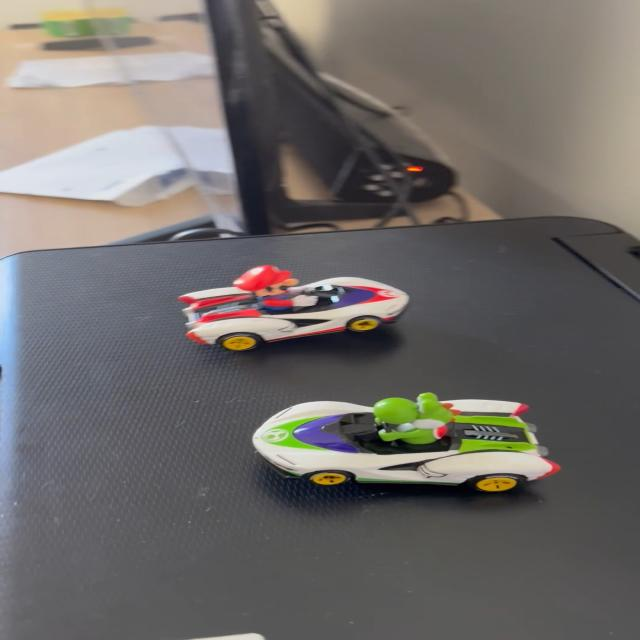mario: (170, 262, 422, 351)
yoshi: (244, 384, 564, 500)
